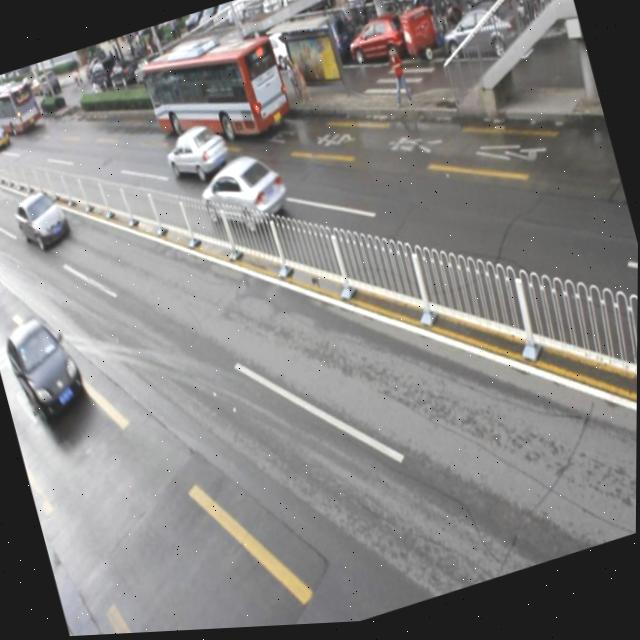car: (0, 308, 91, 429), (193, 146, 293, 247), (159, 119, 233, 191), (11, 183, 75, 257)
van: (140, 24, 293, 164)
